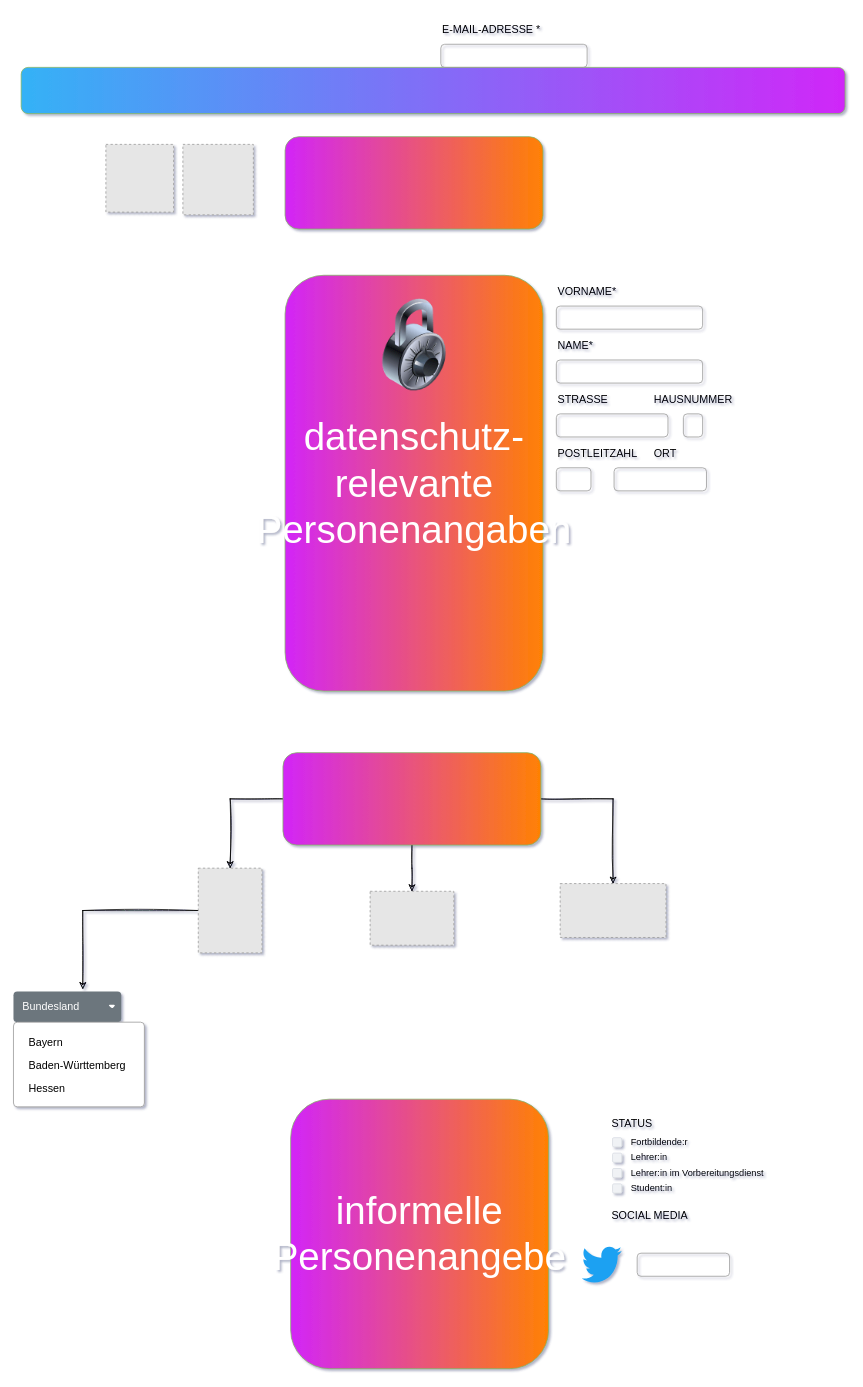
The diagram is 863 pixels wide and 1387 high, and some of its shapes have lost their labels. Grey dashed boxes stand in for pictures. The shapes that lost their labels are listed below. From the top down, each one's centre as x and y in pixels, then its label:
At pixel 432 90: "relilab - Anmeldung".
At pixel 413 182: "Newsletter".
At pixel 411 798: "Länderauswahl".
